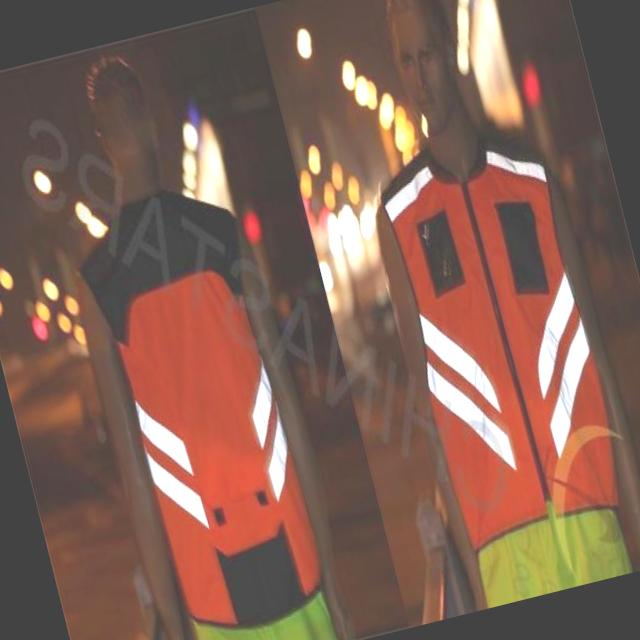vest: (47, 147, 354, 640), (338, 105, 624, 616)
